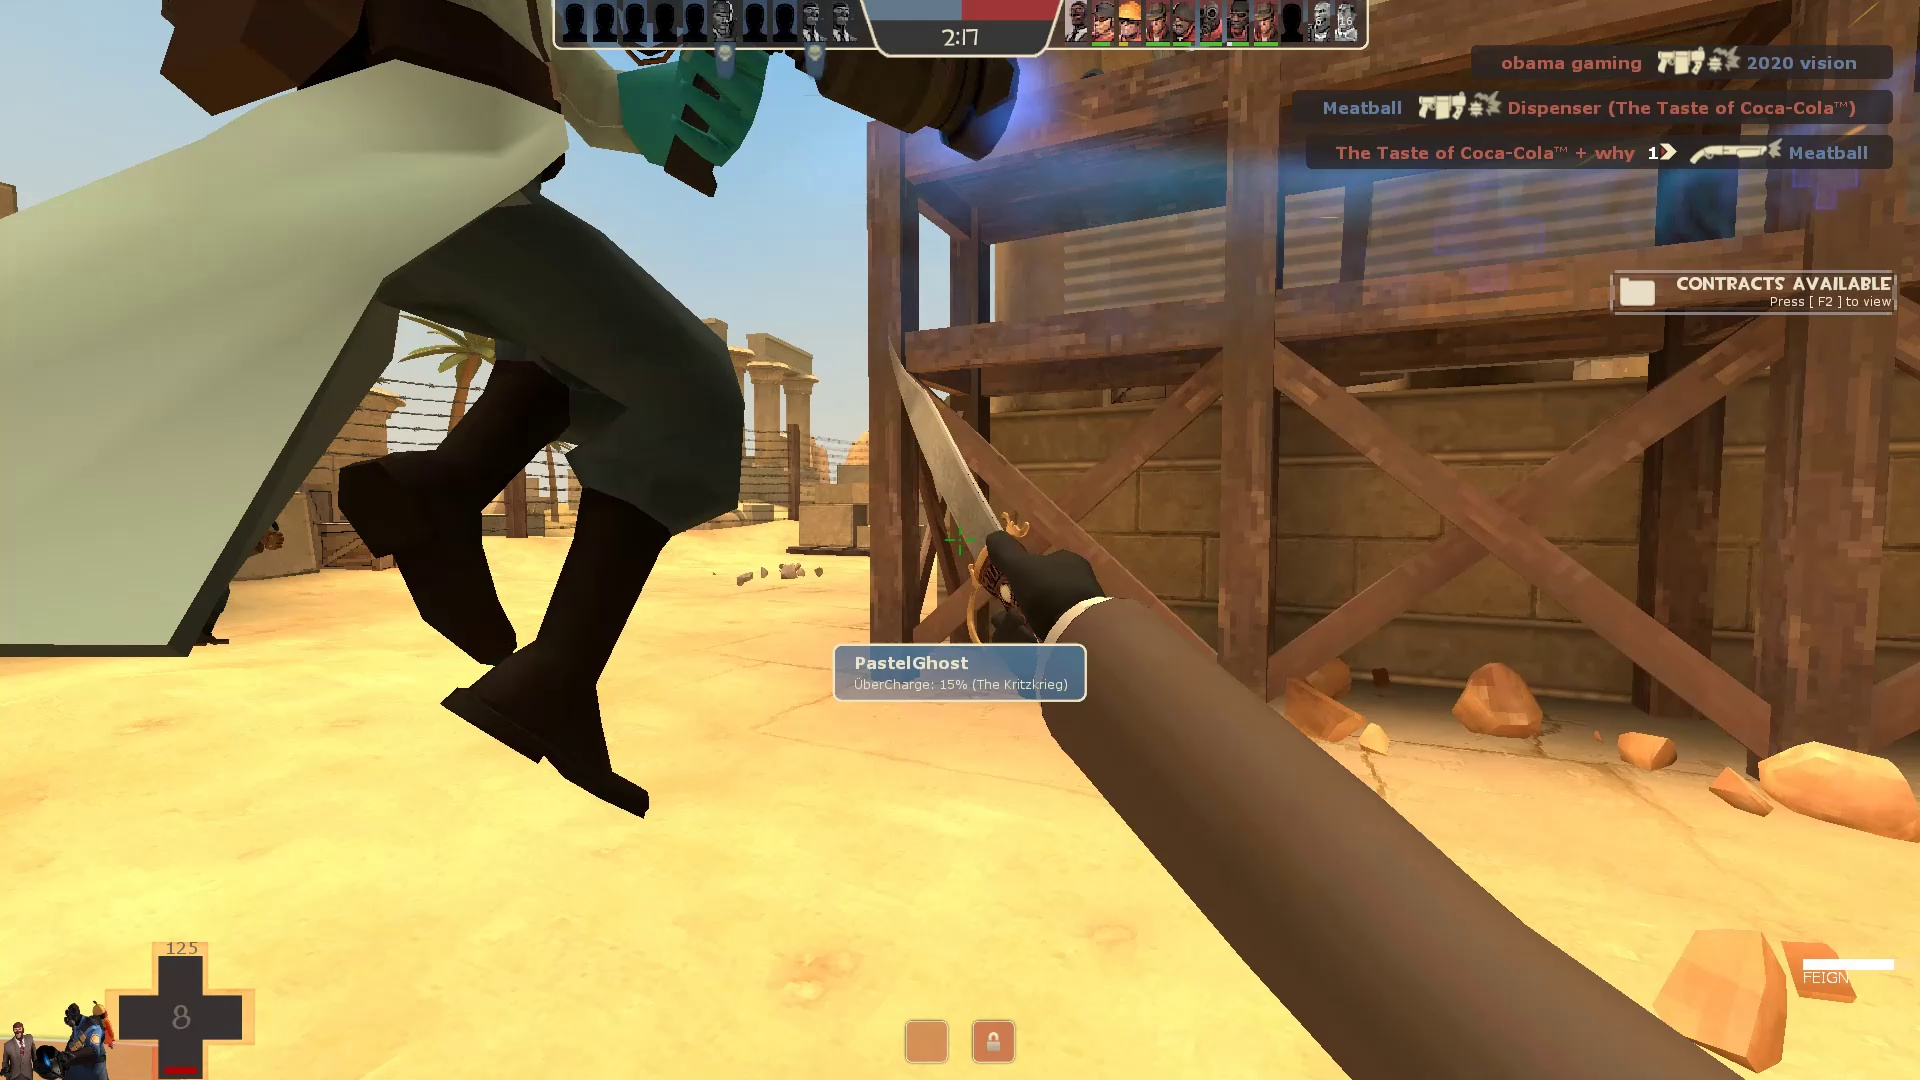blu_medic: (3, 1, 1043, 845)
